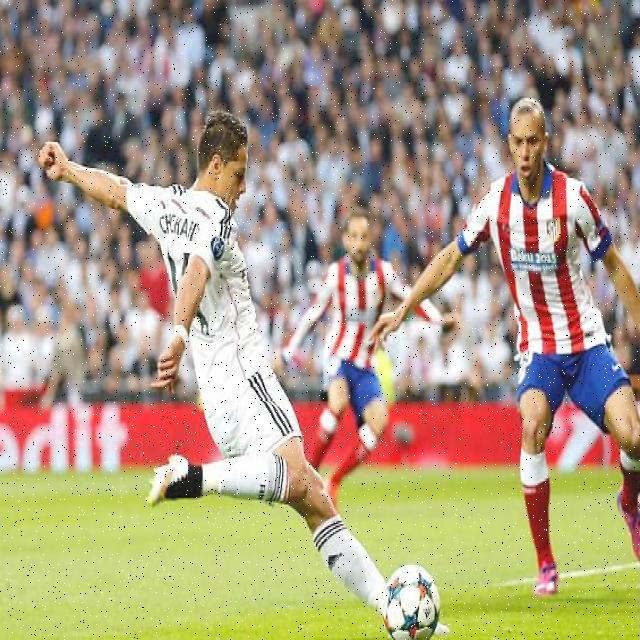shooting: (38, 103, 443, 640)
